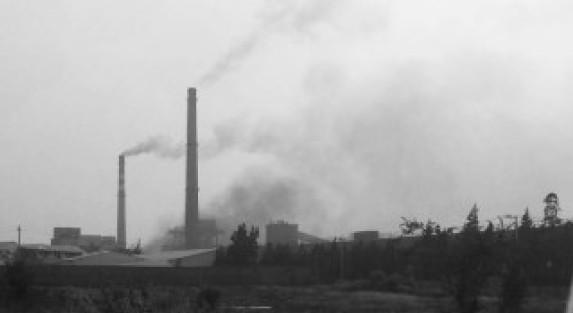dust: (175, 14, 256, 98), (113, 135, 174, 162)
